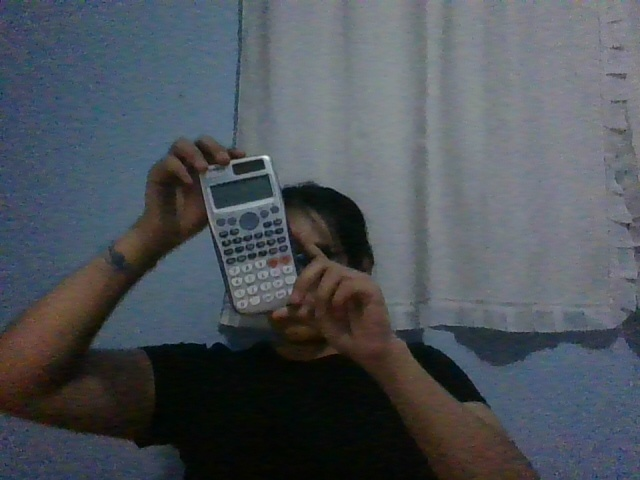calculadora: (198, 155, 301, 313)
